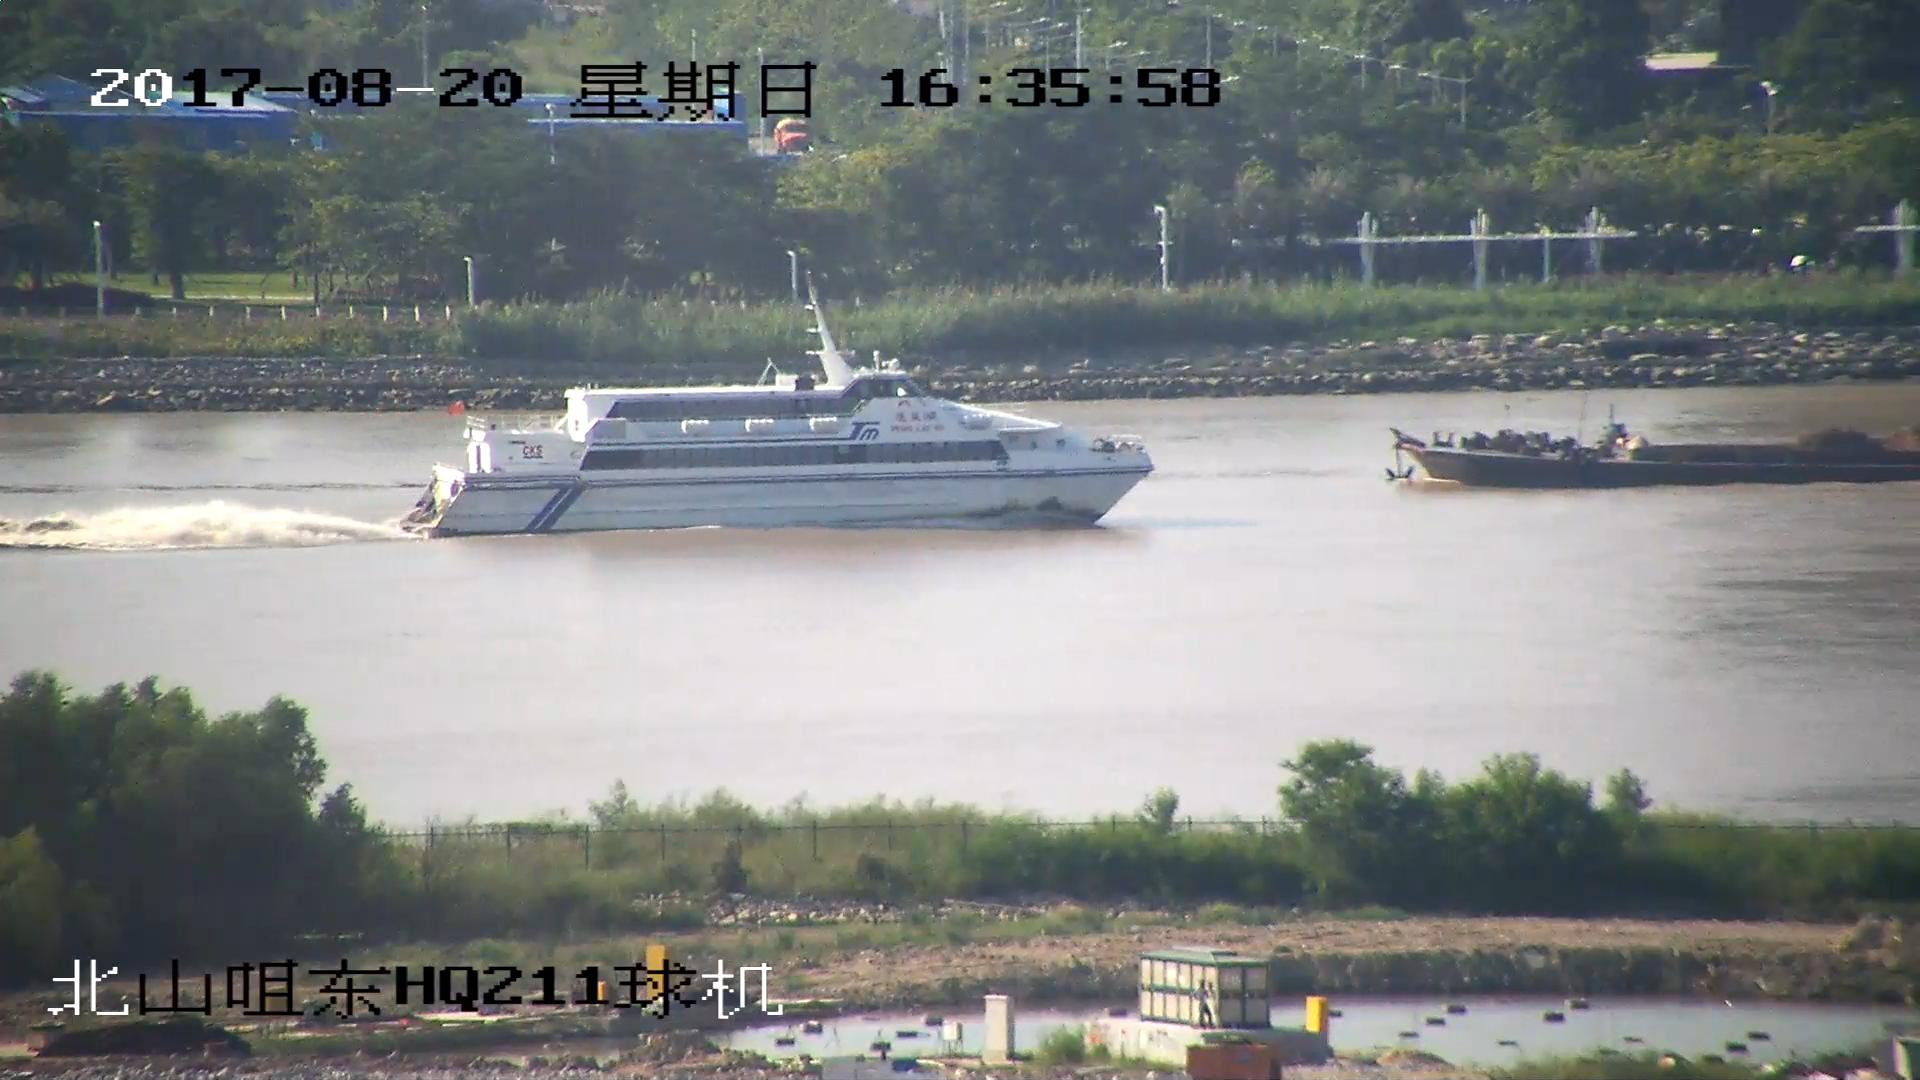ore carrier: (1388, 419, 1920, 489)
passenger ship: (390, 291, 1158, 537)
